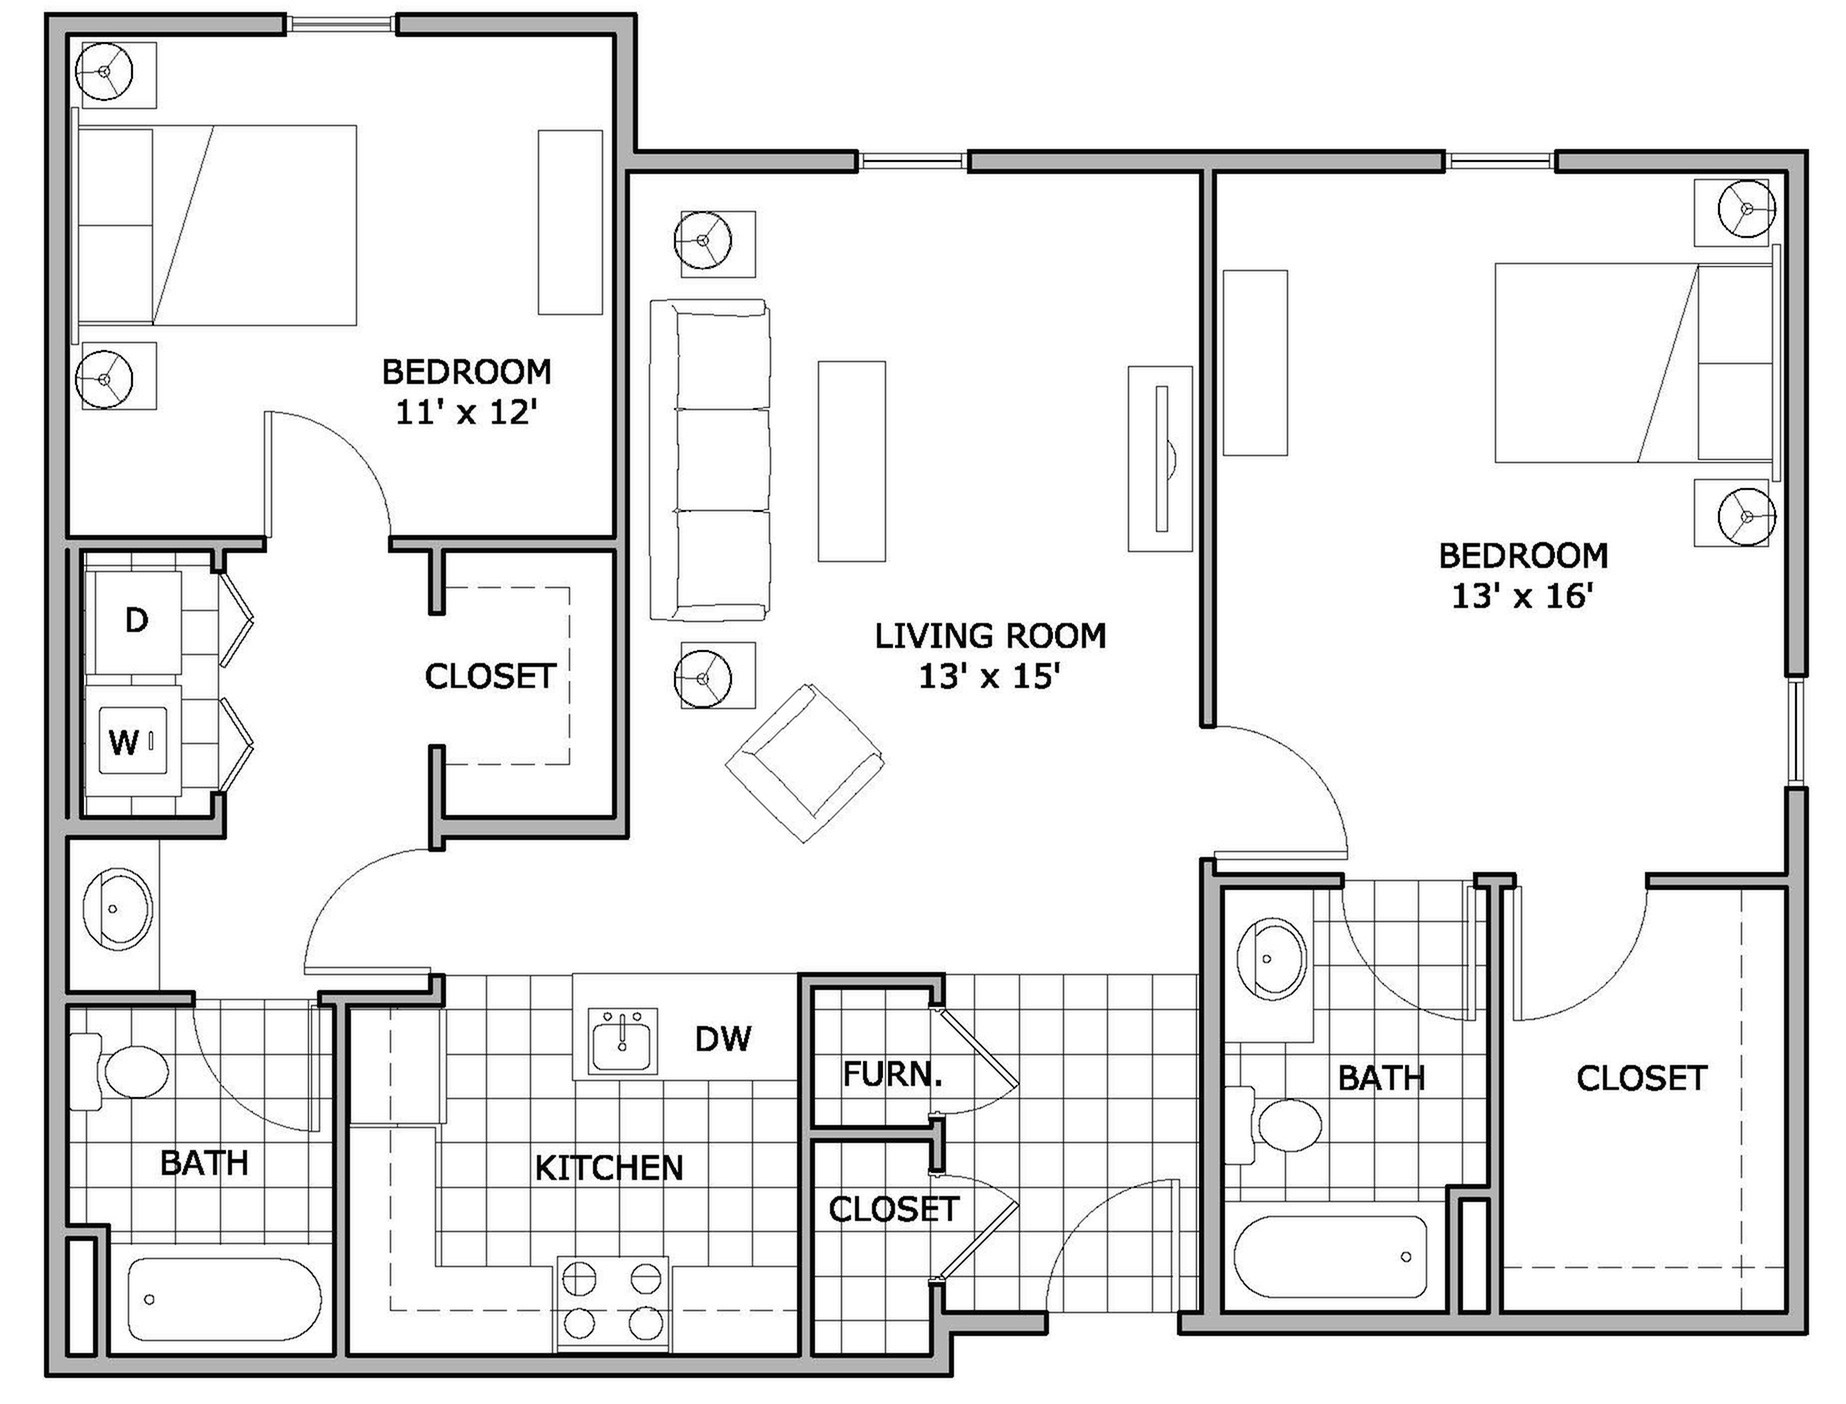wall: (610, 16, 633, 838), (1177, 1310, 1806, 1332), (72, 1363, 951, 1375), (1787, 785, 1805, 1317), (1788, 187, 1800, 674), (970, 155, 1441, 167), (635, 146, 863, 170), (47, 814, 229, 844), (47, 21, 58, 538), (1202, 889, 1213, 1308), (397, 531, 613, 553), (932, 1301, 1042, 1338), (1442, 1178, 1469, 1324), (1558, 155, 1814, 170), (798, 967, 945, 993), (311, 987, 456, 1010), (804, 985, 812, 1366), (394, 12, 638, 25), (47, 987, 195, 1007), (69, 12, 289, 25), (53, 559, 63, 838), (927, 1280, 955, 1375), (49, 857, 63, 1015), (804, 1127, 933, 1144), (1208, 875, 1348, 891), (428, 742, 447, 854), (422, 535, 450, 612), (445, 820, 627, 830), (94, 1223, 106, 1375), (75, 535, 265, 544), (47, 1031, 52, 1369), (924, 1113, 950, 1171), (1654, 876, 1788, 886), (41, 1226, 106, 1246), (1497, 883, 1500, 1314), (203, 790, 229, 833), (335, 1004, 338, 1346), (1446, 1181, 1502, 1199), (1205, 195, 1206, 709), (428, 967, 447, 1006), (211, 535, 221, 569)
